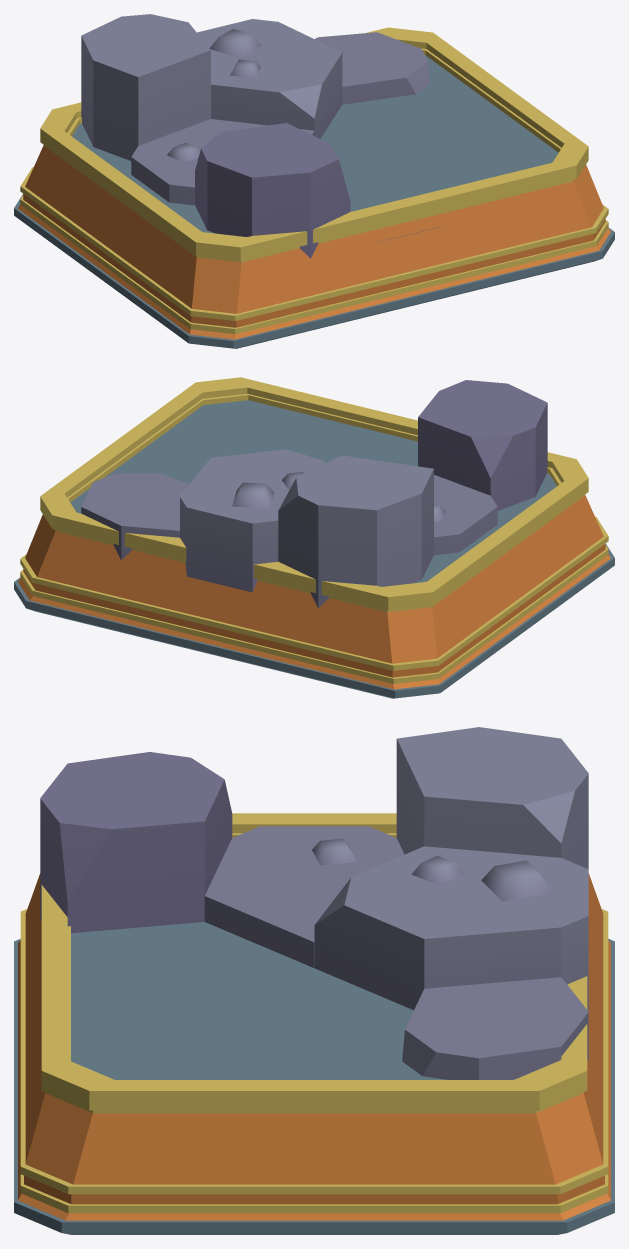
File: quarry.glb
3 views of the same model, one above another, from view 1: azimuth 30°, elevation 25°; view 2: azimuth 150°, elevation 25°; view 3: azimuth 270°, elevation 25° (orthographic). The views are drawn at different scales.
Parts seen in each view (by area): view 1: upgrade_quarry_l8, rocks-ramp, upgrade_quarry_l7; view 2: upgrade_quarry_l8, rocks-ramp, upgrade_quarry_l7; view 3: upgrade_quarry_l8, rocks-ramp, upgrade_quarry_l7.
Boxes of the visible parts, x1,y1,x2,y2 form: upgrade_quarry_l8: (14,27,614,348); rocks-ramp: (81,14,441,258); upgrade_quarry_l7: (17,48,603,335); upgrade_quarry_l8: (14,377,614,698); rocks-ramp: (81,380,547,608); upgrade_quarry_l7: (27,393,611,689); upgrade_quarry_l8: (14,813,614,1234); rocks-ramp: (40,727,588,1079); upgrade_quarry_l7: (17,833,611,1219).
Size of the model in its own units: 1.8 by 0.692 by 1.52.
2 materials, 1 textured.
